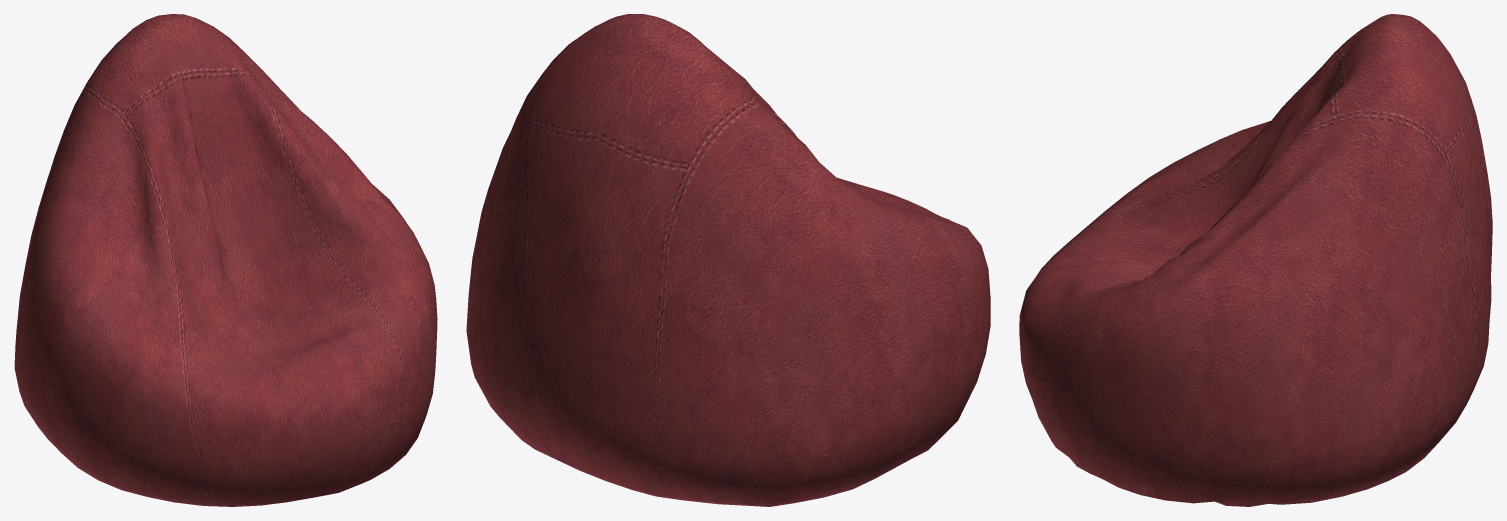
File: bean bag1.fbx
3 renders of one model, left to right at view 1: azimuth 30°, elevation 25°; view 2: azimuth 150°, elevation 25°; view 3: azimuth 270°, elevation 25°, orthographic. The views are drawn at different scales.
Parts seen in each view (by area): view 1: bean_bag; view 2: bean_bag; view 3: bean_bag.
Part boxes in pixels (<box>): bean_bag: <box>14,14,437,506</box>; bean_bag: <box>466,14,990,506</box>; bean_bag: <box>1019,14,1492,506</box>.
Size of the model in its own units: 91.05 by 88.6 by 92.58.
Materials: 1 (1 with a texture image).
